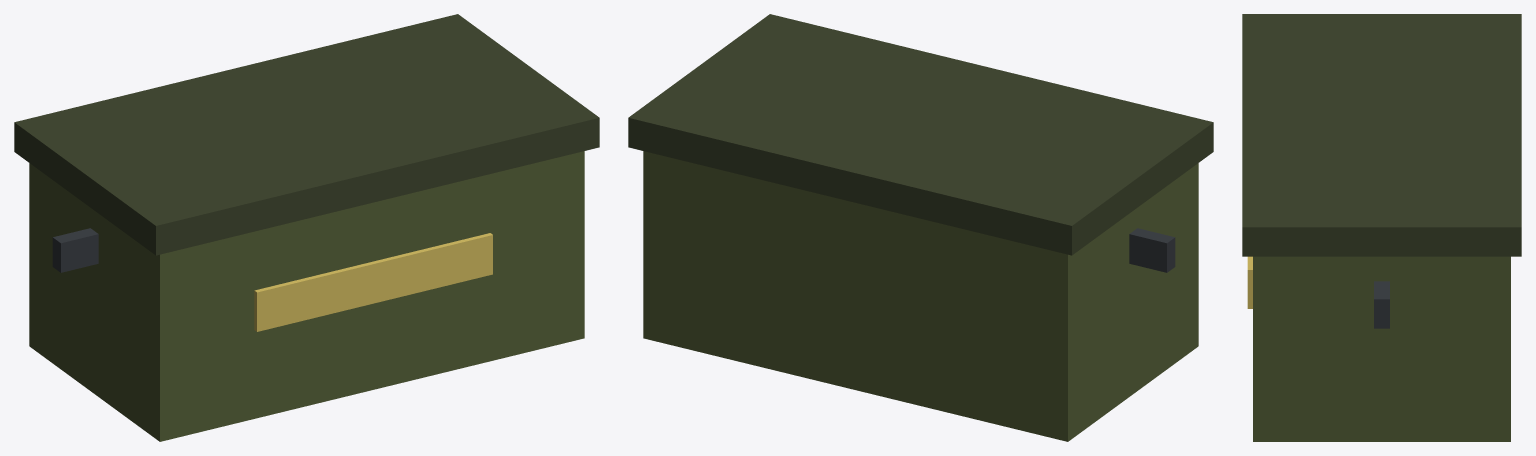
The model's file is ammo_crate.glb.
3 renders of one model, left to right at view 1: azimuth 30°, elevation 25°; view 2: azimuth 150°, elevation 25°; view 3: azimuth 270°, elevation 25°, orthographic.
Visible parts, largest first — view 1: ammo_crate; view 2: ammo_crate; view 3: ammo_crate.
Boxes of the visible parts, <box> form: ammo_crate: <box>14,14,599,441</box>; ammo_crate: <box>628,14,1213,441</box>; ammo_crate: <box>1242,14,1521,441</box>.
Bounding box in the file's own units: 1.06 × 0.45 × 0.52.
